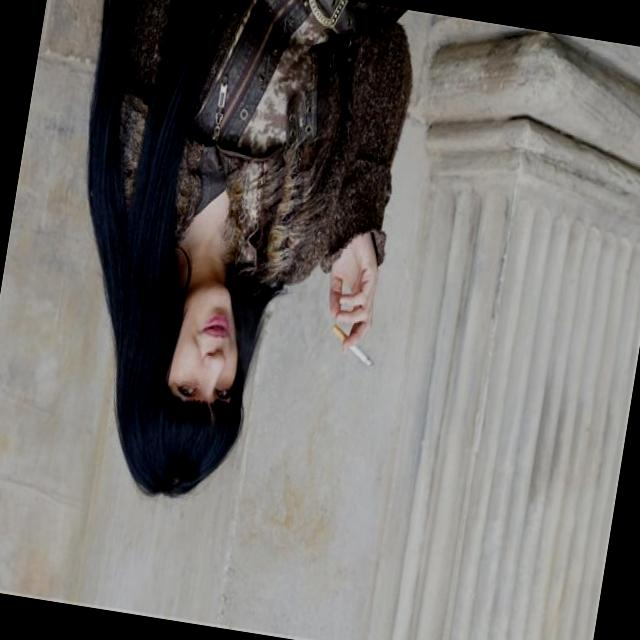cigarette: (324, 316, 384, 376)
